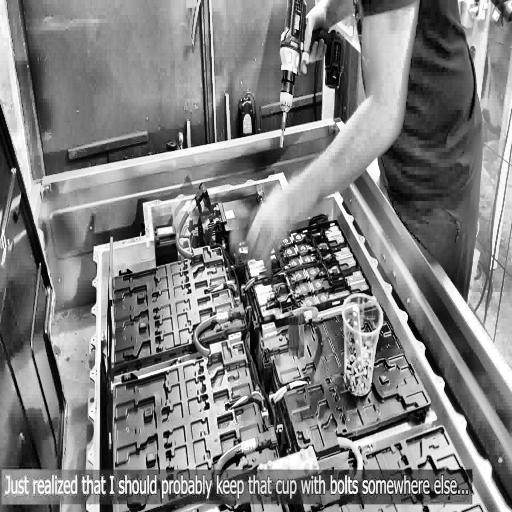high_volt_cable: (318, 427, 367, 508), (214, 432, 263, 511), (169, 182, 212, 264), (190, 304, 248, 355), (272, 301, 321, 326)
low_volt_cable: (211, 238, 277, 433)
nut: (308, 445, 314, 456), (300, 448, 306, 458), (312, 460, 318, 470), (266, 460, 272, 469), (304, 464, 310, 473), (259, 464, 264, 472)
